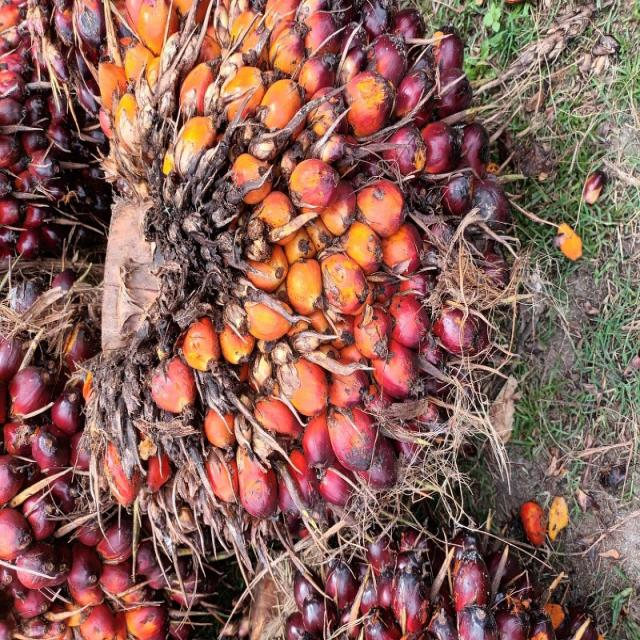fraksi 1: (30, 111, 480, 640)
